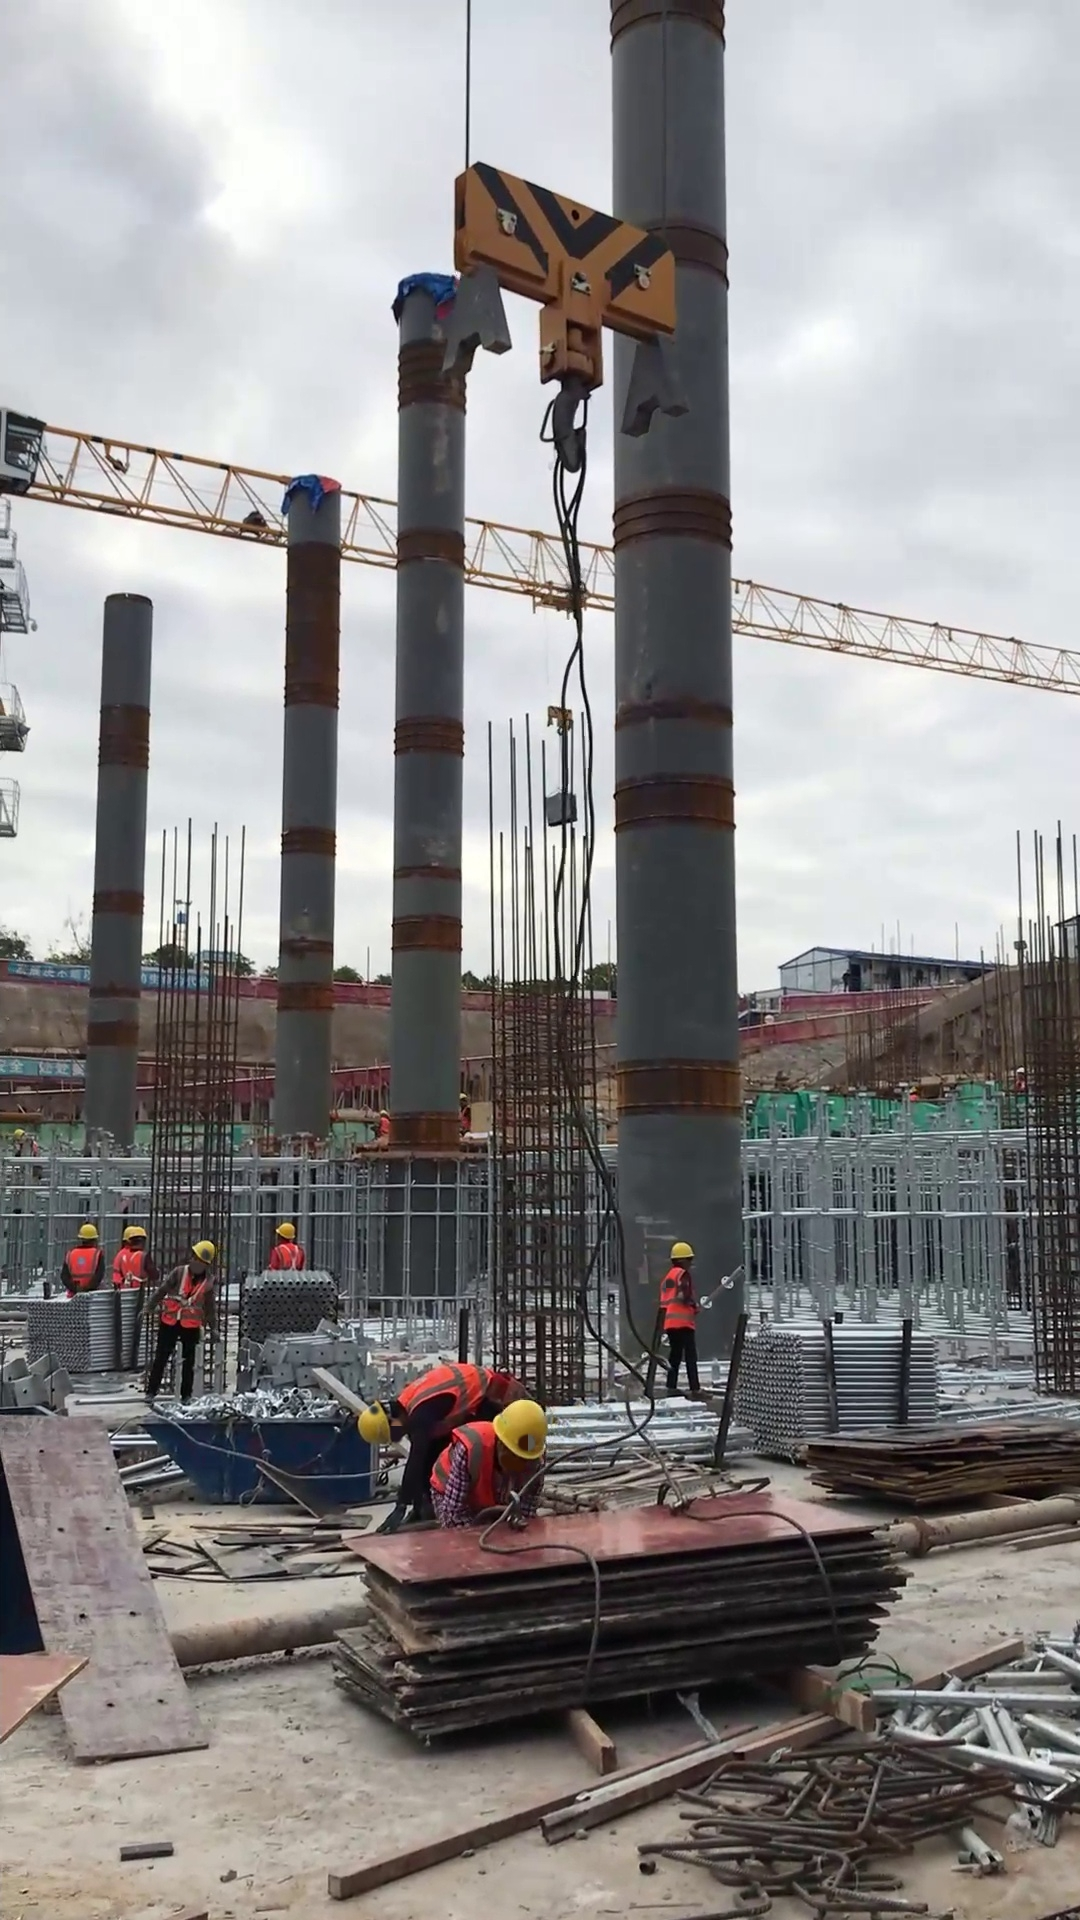board: (337, 1492, 888, 1737), (802, 1414, 1080, 1506)
helmet: (493, 1401, 549, 1460), (357, 1399, 393, 1449), (189, 1236, 217, 1265), (668, 1237, 694, 1264), (118, 1225, 147, 1243), (273, 1220, 295, 1241), (75, 1223, 98, 1241), (1013, 1062, 1026, 1077), (458, 1090, 469, 1102), (13, 1128, 25, 1140), (377, 1107, 392, 1116)
hook: (434, 159, 695, 474), (545, 703, 575, 739)
hopper: (134, 1414, 387, 1507)
person: (357, 1359, 538, 1538), (426, 1397, 548, 1530), (136, 1236, 223, 1406), (655, 1238, 712, 1402), (108, 1224, 164, 1288), (59, 1222, 108, 1295), (262, 1219, 306, 1273), (456, 1090, 473, 1137), (372, 1107, 392, 1138)
scaffold: (728, 1322, 945, 1458), (541, 1394, 739, 1475), (24, 1292, 151, 1374), (236, 1265, 340, 1335)
slogan: (7, 962, 211, 991), (1, 1055, 88, 1082)
vest: (428, 1420, 522, 1513), (395, 1360, 512, 1430), (160, 1261, 205, 1329), (655, 1266, 698, 1331), (64, 1243, 104, 1293), (109, 1246, 150, 1289), (271, 1242, 306, 1271), (455, 1103, 472, 1134), (375, 1116, 393, 1138)
